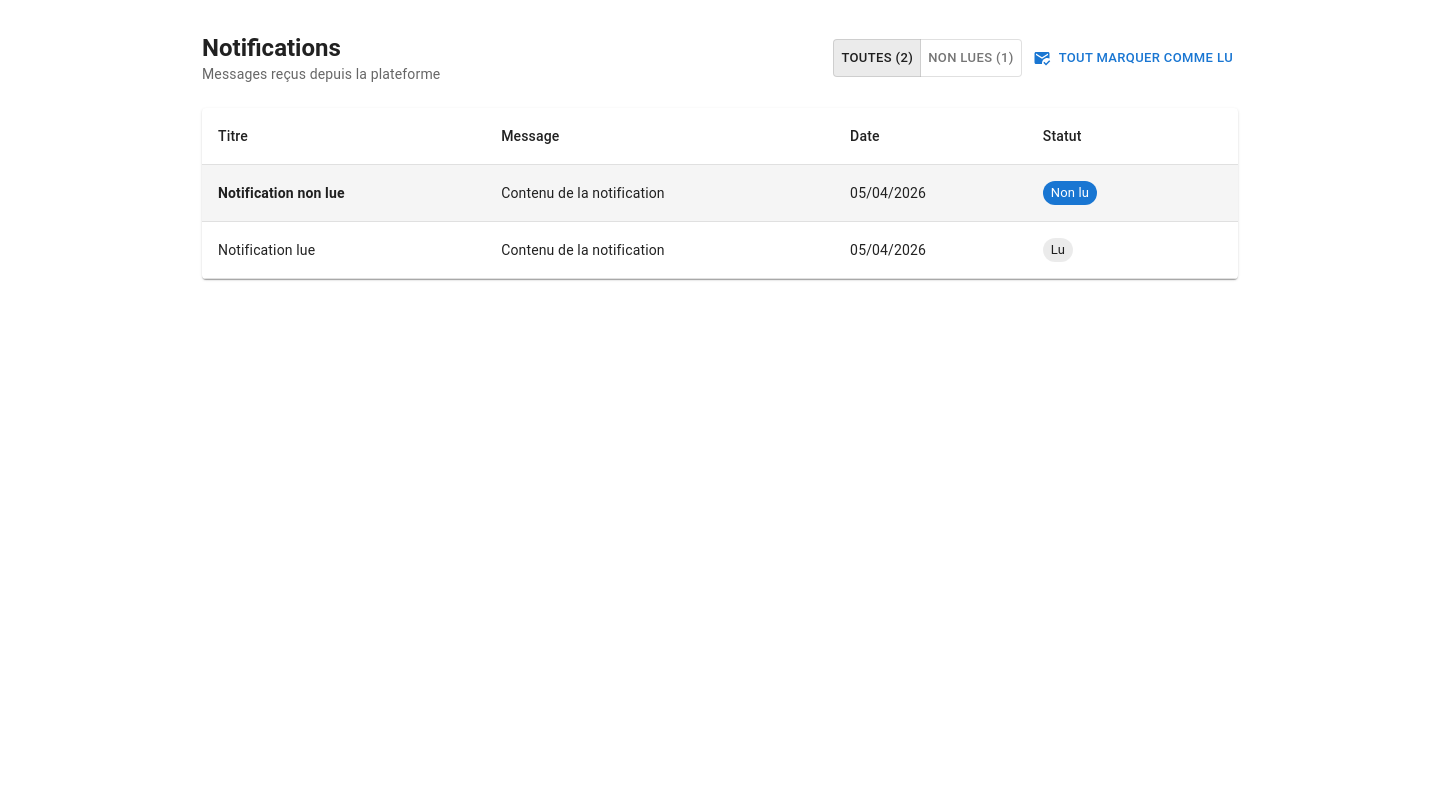
HospitalAdminNotificationsPage › clicking a row opens the detail dialog
Expected: the text "Notification non lue" is shown, [202,164,485,222]
Click the text "Notification non lue".
click(720, 193)  # box [202,164,1238,222]
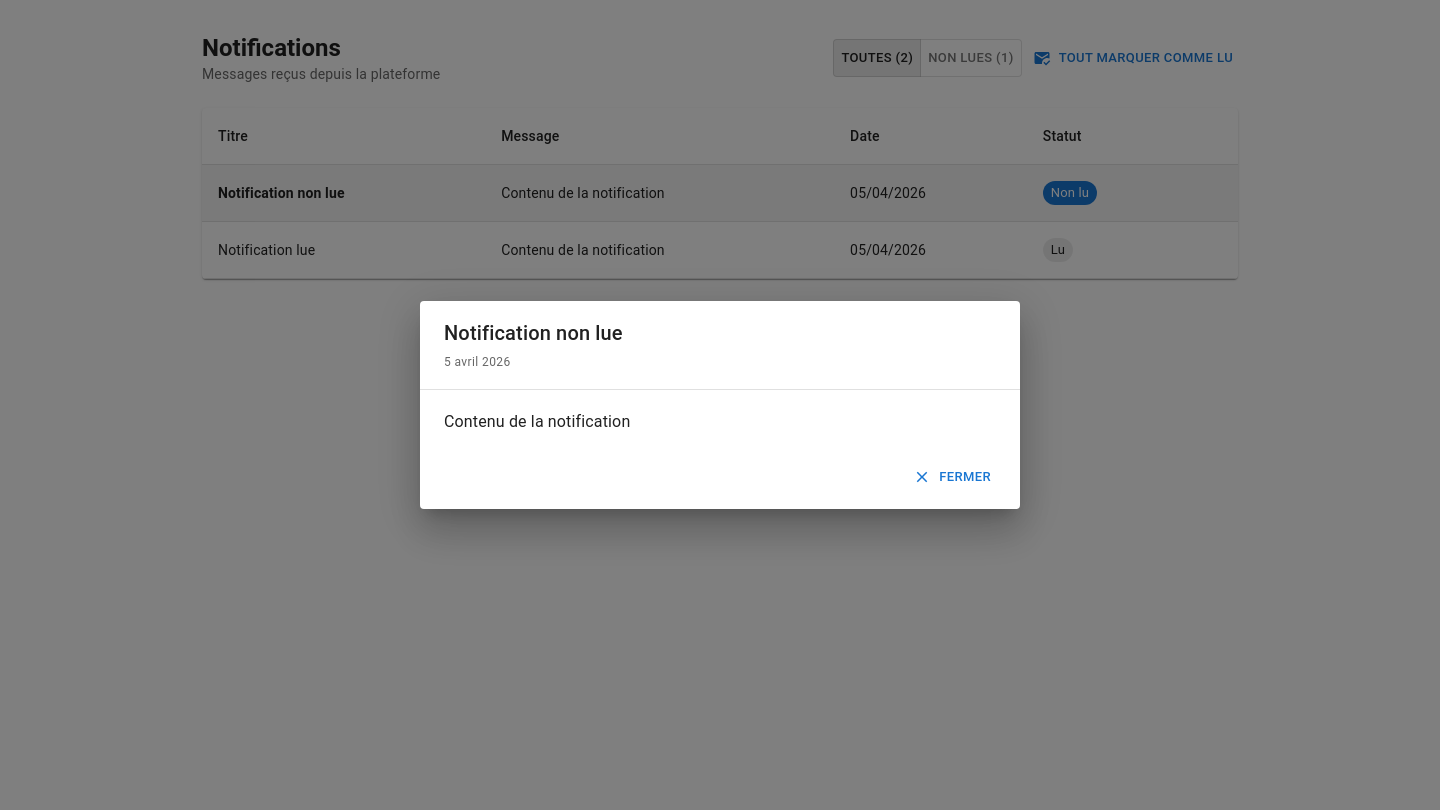
Now the dialog is shown, box [420,301,1020,509]
